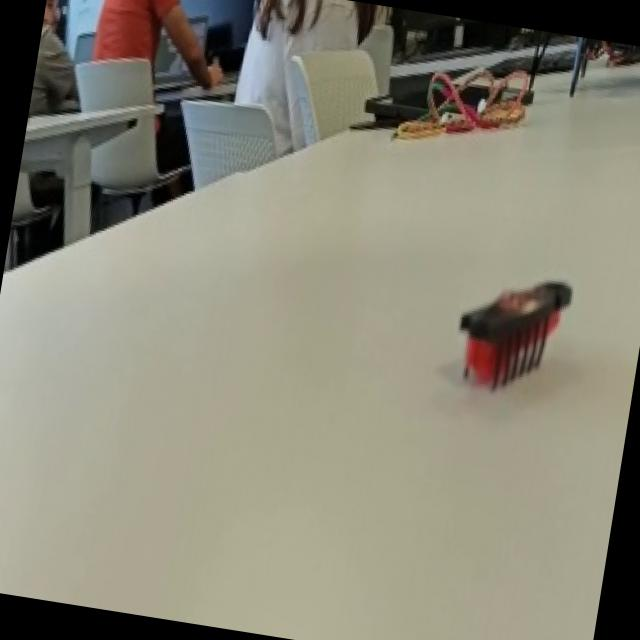2_NanoBug_Negro: (417, 241, 588, 437)
